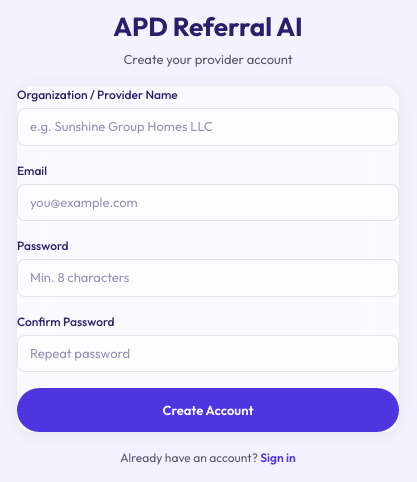
it: Signup › shows check-email state after successful signup (email confirmation flow)
The width and height of the screenshot is (417, 482).
Type "My Org" into the field labelled "Organization / Provider Name" at (208, 127), box [17,108,399,146]
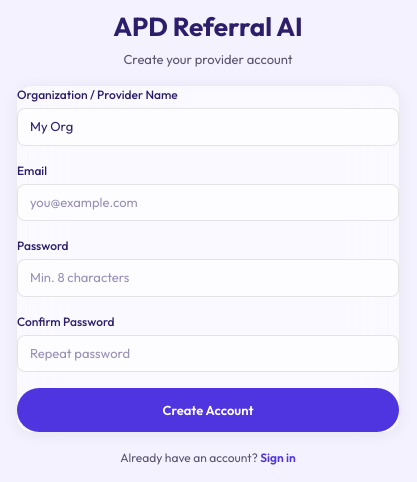
Type "pending@test.com" into the field labelled "Email" at (208, 203), box [17,184,399,221]
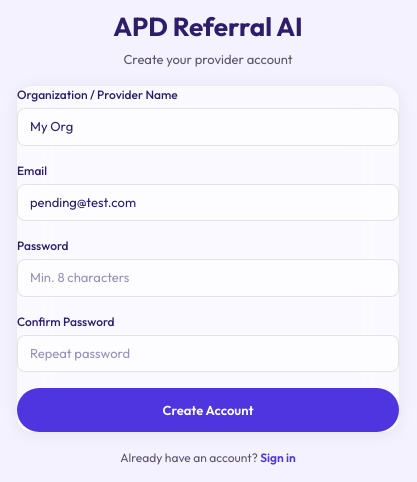
Type "password123" into the password field labelled "Password" at (208, 278), box [17,259,399,297]
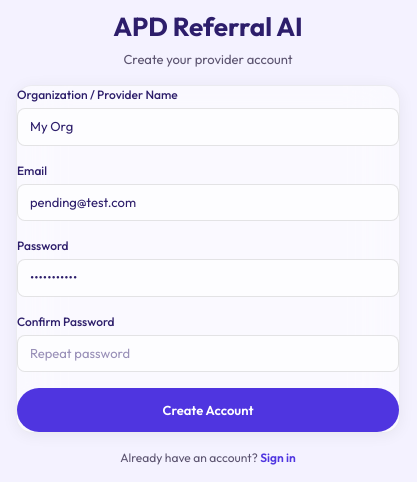
Type "password123" into the password field labelled "Confirm Password" at (208, 354), box [17,335,399,372]
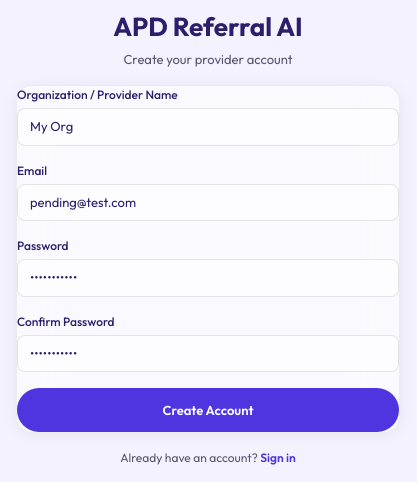
Click the button "Create Account" at (208, 410), box [17,388,399,432]
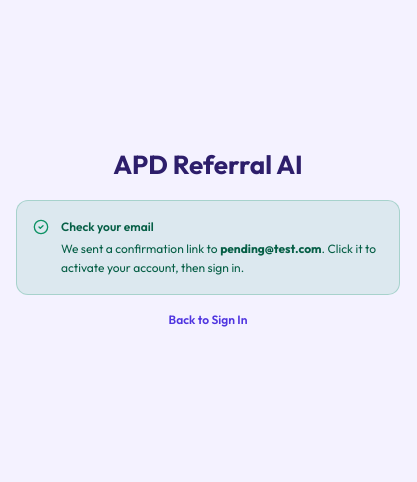
Expected: the text "Check your email" is shown, [61,219,154,234]
Expected: the text "pending@test.com" is shown, [220,241,322,256]
